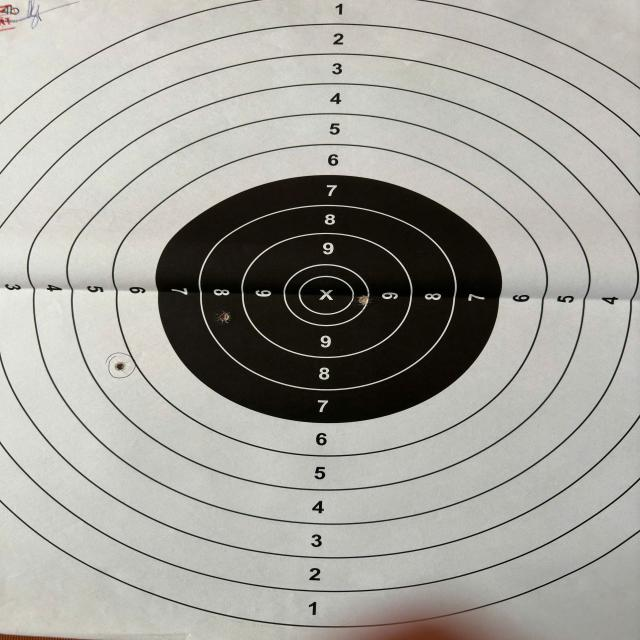bullet: (116, 360, 127, 372), (220, 312, 228, 324), (361, 296, 368, 304)
target: (0, 0, 628, 640)
